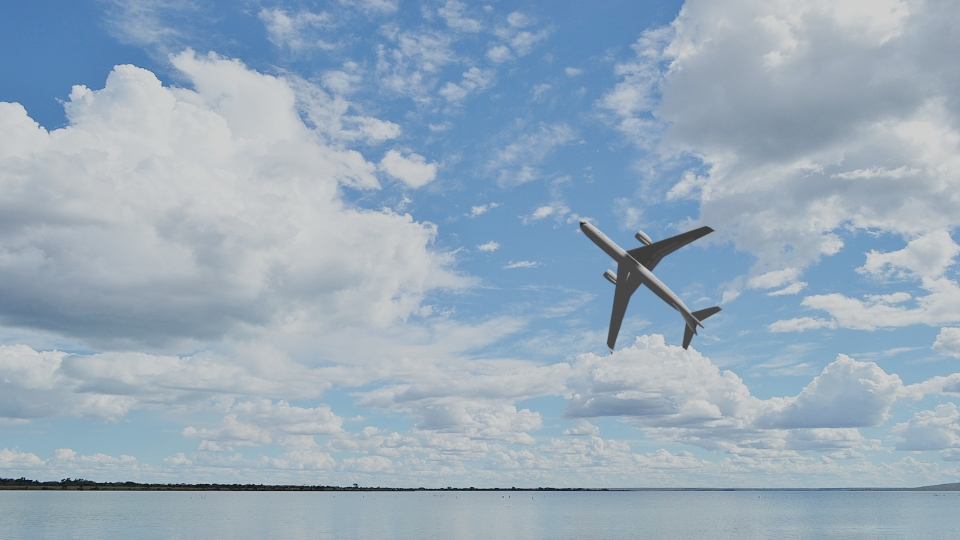plane: (579, 217, 725, 355)
